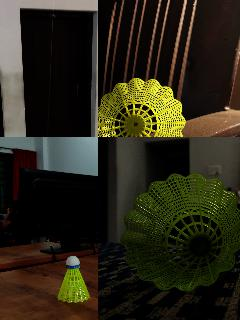shuttlecock: (119, 173, 239, 290), (98, 77, 185, 136), (56, 255, 90, 302)
